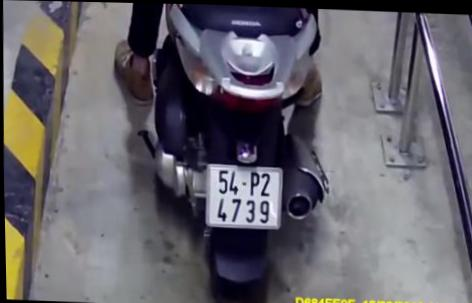LP: (202, 155, 286, 234)
